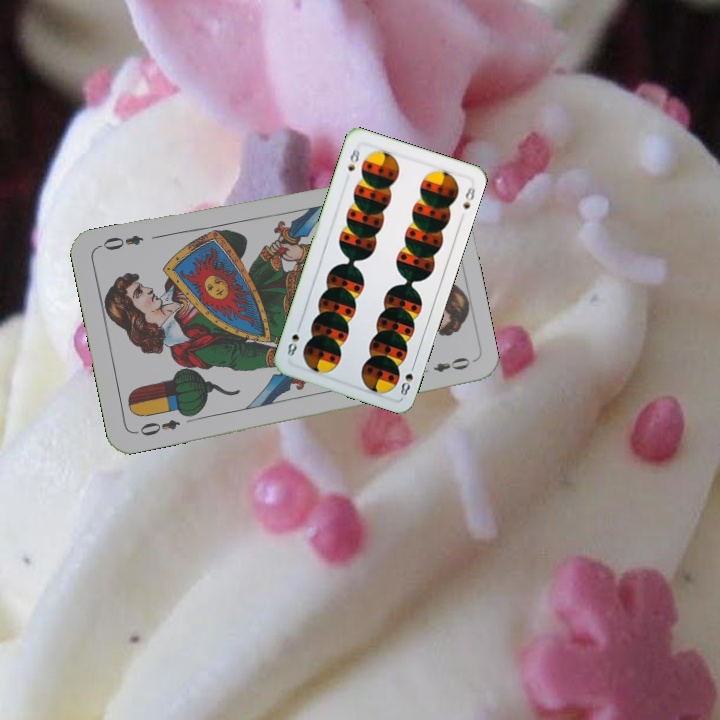EO: (131, 415, 183, 439)
S8: (396, 359, 418, 398), (344, 145, 362, 174)
